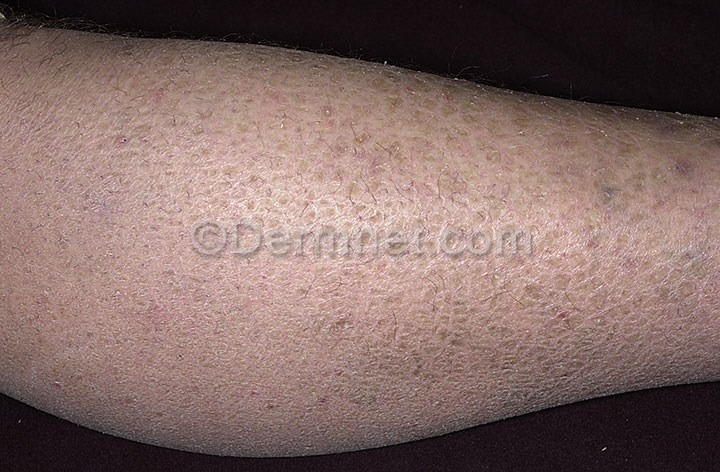Eczema: (11, 123, 718, 392), (18, 61, 388, 120)
